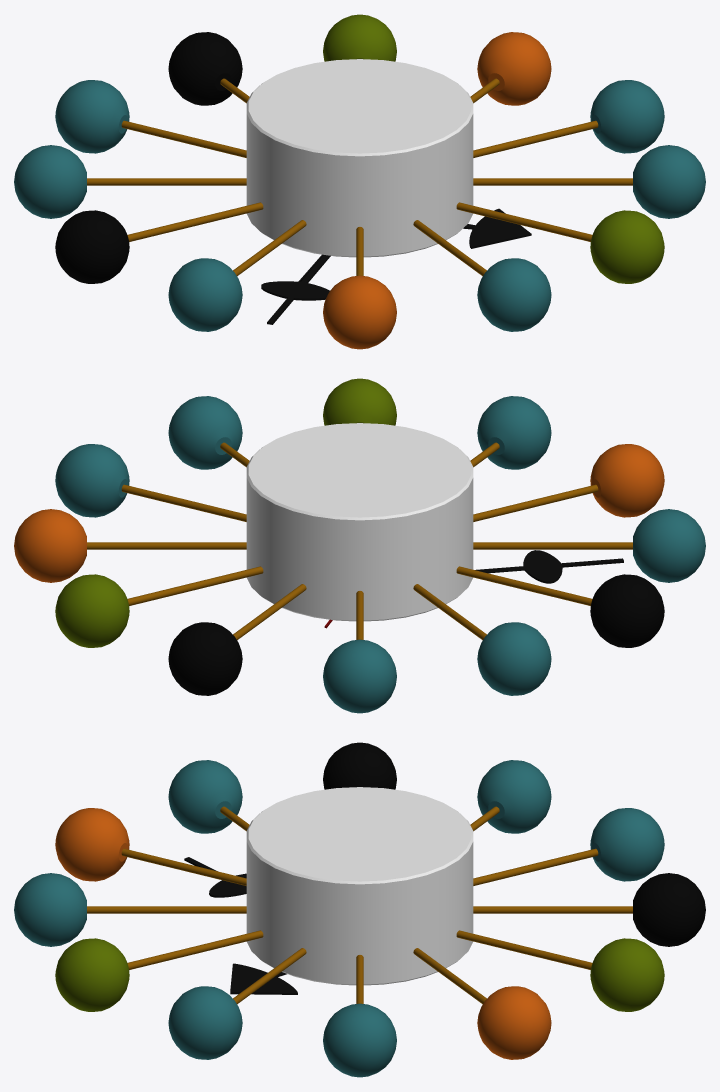
Rendered from vitra_ball_clock_mat(1).obj.
The picture shows the model from 3 angles, top to bottom: view 1: azimuth 30°, elevation 25°; view 2: azimuth 150°, elevation 25°; view 3: azimuth 270°, elevation 25°; orthographic projection.
Visible parts, largest first — view 1: vitra_ball_clock_mat1; view 2: vitra_ball_clock_mat1; view 3: vitra_ball_clock_mat1.
Part boxes in pixels (<box>): vitra_ball_clock_mat1: <box>14,14,705,349</box>; vitra_ball_clock_mat1: <box>14,378,705,713</box>; vitra_ball_clock_mat1: <box>14,742,705,1077</box>.
Size of the model in its own units: 33.15 by 6.15 by 33.15.
